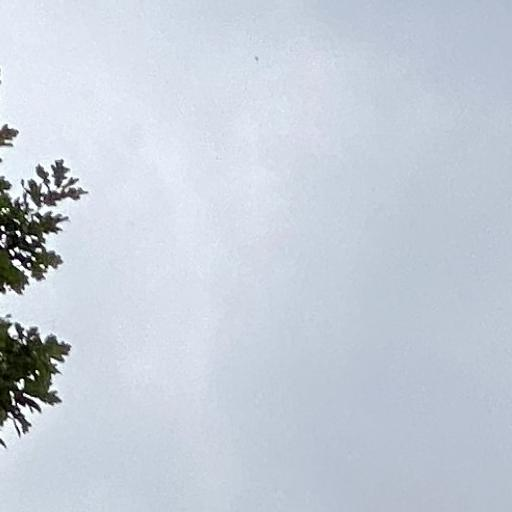tree: (1, 69, 89, 449)
